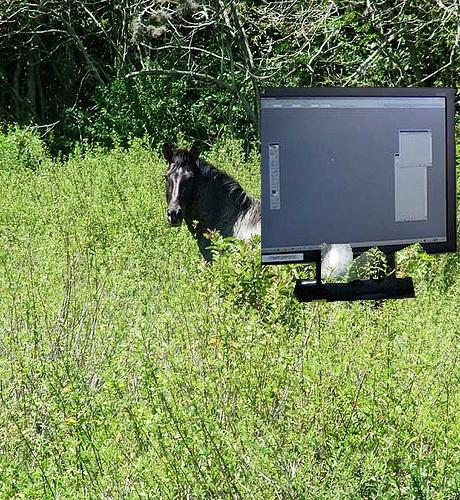tampered: (262, 88, 457, 302)
